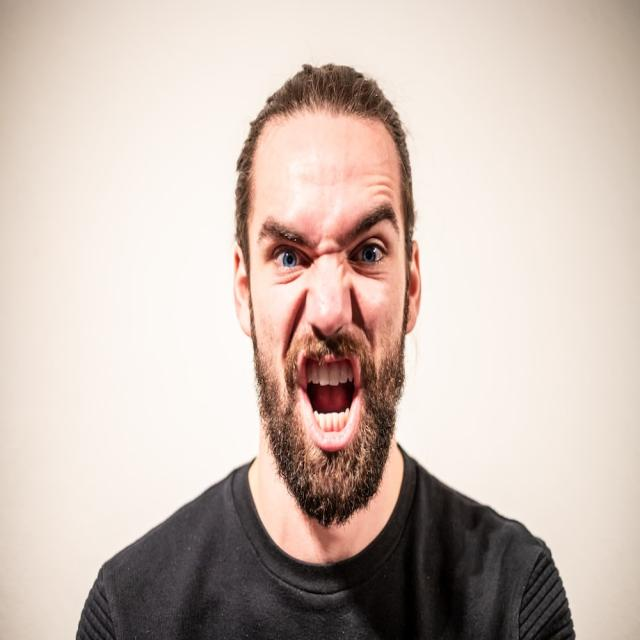angry: (218, 72, 434, 538)
